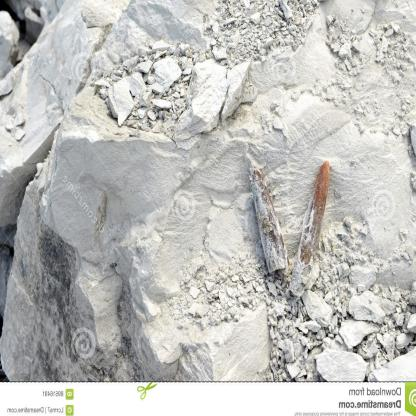Sedimentary_Chalk: (33, 18, 377, 347)
